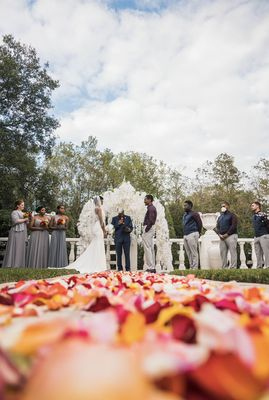sandwich: (1, 269, 268, 400)
